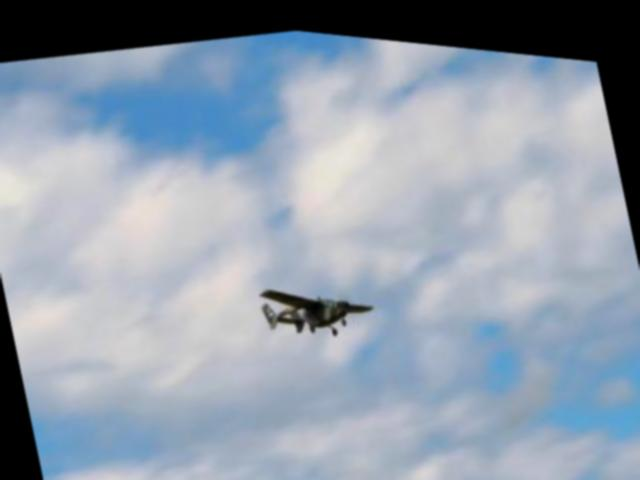uav: (252, 253, 380, 351)
